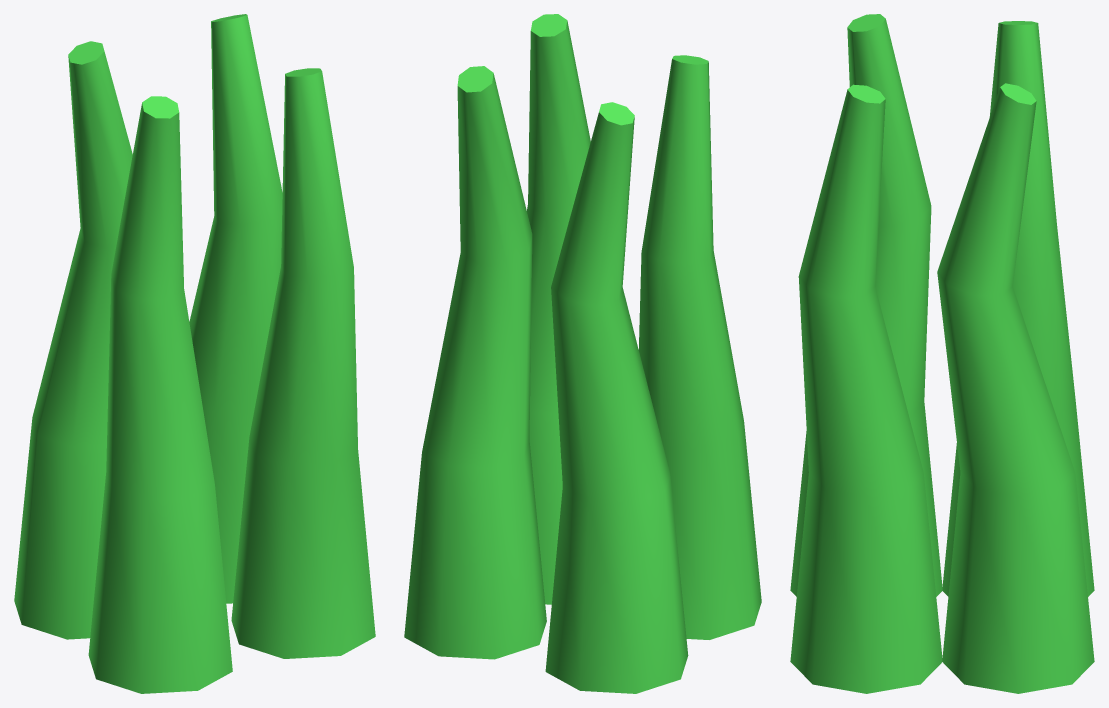
Rendered from Grass.fbx.
3 renders of one model, left to right at view 1: azimuth 30°, elevation 25°; view 2: azimuth 150°, elevation 25°; view 3: azimuth 270°, elevation 25°, orthographic. The views are drawn at different scales.
Visible parts, largest first — view 1: Grass; view 2: Grass; view 3: Grass.
Part boxes in pixels (box(x1,y1,x2,y2)): Grass: box(14, 14, 375, 693); Grass: box(404, 14, 761, 693); Grass: box(790, 14, 1094, 693).
Bounding box in the file's own units: 38.81 × 76.7 × 36.8.
